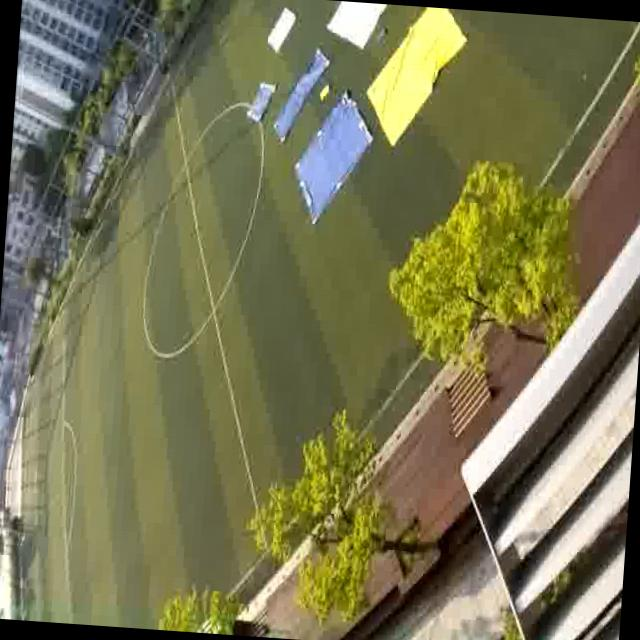danger: (296, 107, 367, 210), (282, 70, 315, 120), (244, 78, 277, 124)
safety: (322, 0, 388, 51), (262, 5, 296, 55)
warning: (376, 12, 459, 115)
